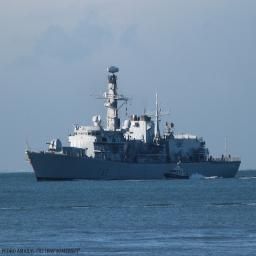Fragata: (26, 64, 244, 182)
